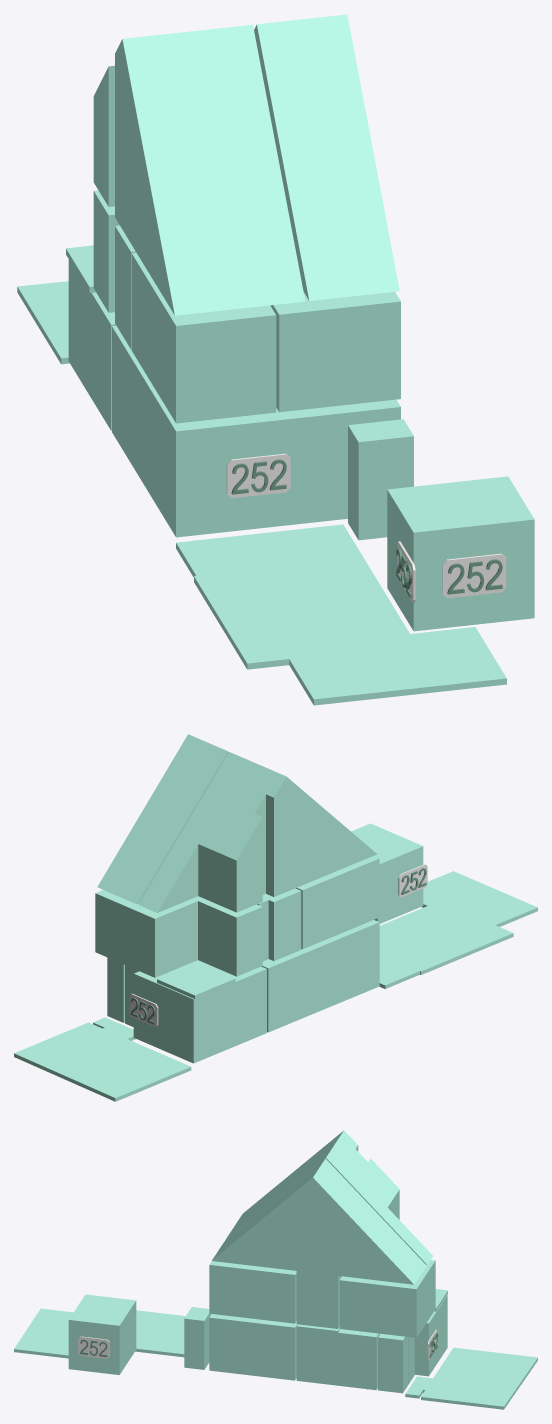
3 renders of one model, top to bottom at view 1: azimuth 30°, elevation 25°; view 2: azimuth 150°, elevation 25°; view 3: azimuth 270°, elevation 25°, orthographic. The views are drawn at different scales.
Parts seen in each view (by area): view 1: g_6, g_17, g_0, g_7, g_3, g_10, g_9, g_4, g_1, g_15, g_11, g_8 (+4 smaller); view 2: g_6, g_11, g_17, g_1, g_0, g_15, g_7, g_10, g_3, g_13, g_16, g_5 (+4 smaller); view 3: g_7, g_15, g_11, g_0, g_2, g_6, g_9, g_3, g_17, g_8, g_14, g_5 (+3 smaller).
Boxes of the visible parts, x1,y1,x2,y2 form: g_6: (93, 24, 305, 315); g_17: (176, 524, 506, 705); g_0: (112, 325, 400, 537); g_7: (254, 19, 399, 300); g_3: (387, 476, 534, 631); g_10: (131, 252, 276, 423); g_9: (270, 292, 400, 412); g_4: (348, 419, 413, 540); g_1: (68, 259, 115, 430); g_15: (17, 281, 69, 364); g_11: (93, 190, 119, 312); g_8: (304, 14, 355, 63); g_6: (139, 752, 376, 912); g_11: (95, 890, 262, 977); g_17: (379, 871, 537, 988); g_1: (133, 960, 266, 1063); g_0: (261, 920, 379, 1032); g_15: (14, 1017, 191, 1101); g_7: (97, 742, 228, 904); g_10: (295, 856, 379, 949); g_3: (351, 823, 423, 923); g_13: (257, 888, 301, 961); g_16: (157, 962, 235, 998); g_5: (107, 957, 124, 1022); g_7: (212, 1158, 426, 1284); g_15: (405, 1347, 537, 1409); g_11: (339, 1260, 435, 1337); g_0: (209, 1314, 297, 1380); g_2: (296, 1324, 414, 1390); g_6: (225, 1130, 432, 1264); g_9: (209, 1261, 296, 1323); g_3: (68, 1294, 136, 1374); g_17: (14, 1308, 185, 1358); g_8: (296, 1168, 342, 1275); g_14: (296, 1271, 341, 1328); g_5: (378, 1333, 407, 1393).
Size of the model in its own units: 10.68 by 10.25 by 23.33.
